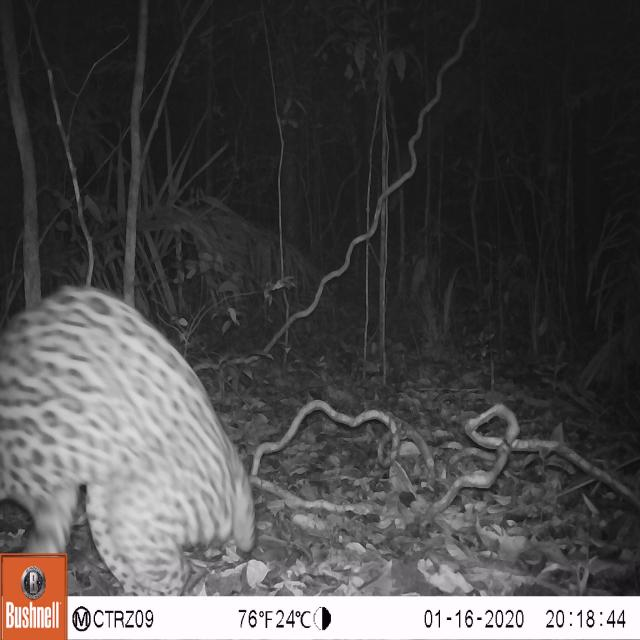Ocelote: (0, 278, 264, 594)
